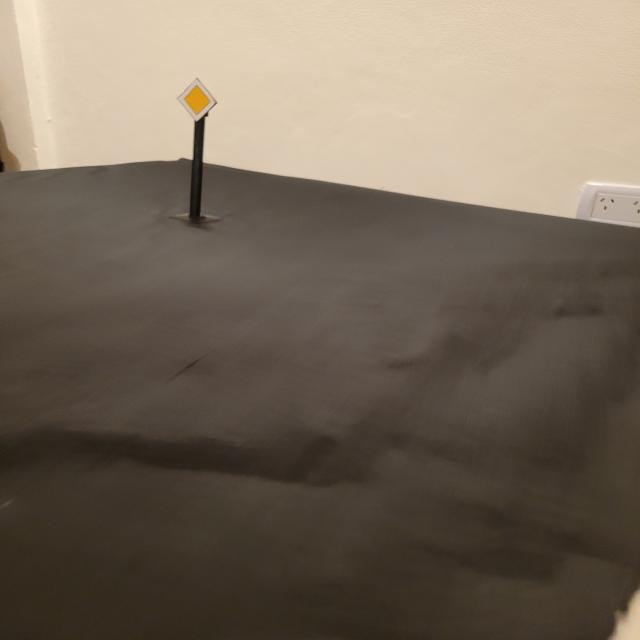priority: (176, 77, 217, 122)
